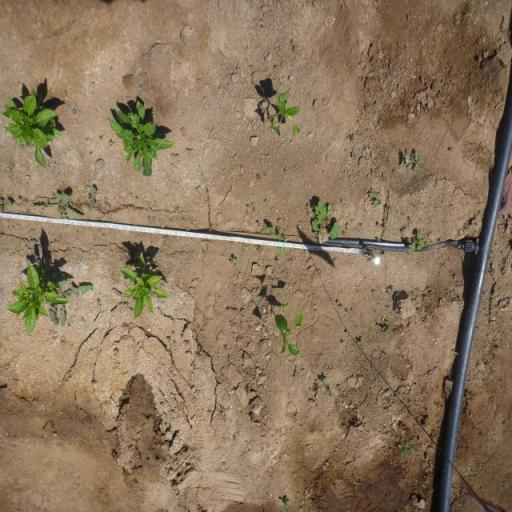plant: (111, 97, 174, 179), (2, 86, 62, 170), (117, 248, 171, 320), (10, 260, 56, 334), (267, 299, 306, 362), (268, 84, 302, 137)
weed: (58, 270, 94, 330), (30, 191, 84, 219), (310, 200, 341, 241), (268, 223, 288, 258), (401, 146, 423, 173), (395, 436, 416, 458), (408, 230, 426, 254), (368, 186, 386, 208), (85, 183, 100, 209), (320, 376, 334, 398), (0, 195, 14, 213), (379, 320, 392, 336), (376, 218, 390, 232), (280, 500, 293, 512), (229, 256, 239, 268), (336, 298, 344, 310), (112, 347, 120, 358), (388, 287, 396, 296), (174, 202, 180, 213), (256, 246, 264, 254), (350, 151, 357, 160), (357, 338, 364, 347), (108, 138, 114, 147), (349, 132, 355, 141), (166, 335, 172, 343), (72, 105, 76, 115), (276, 258, 281, 264)
